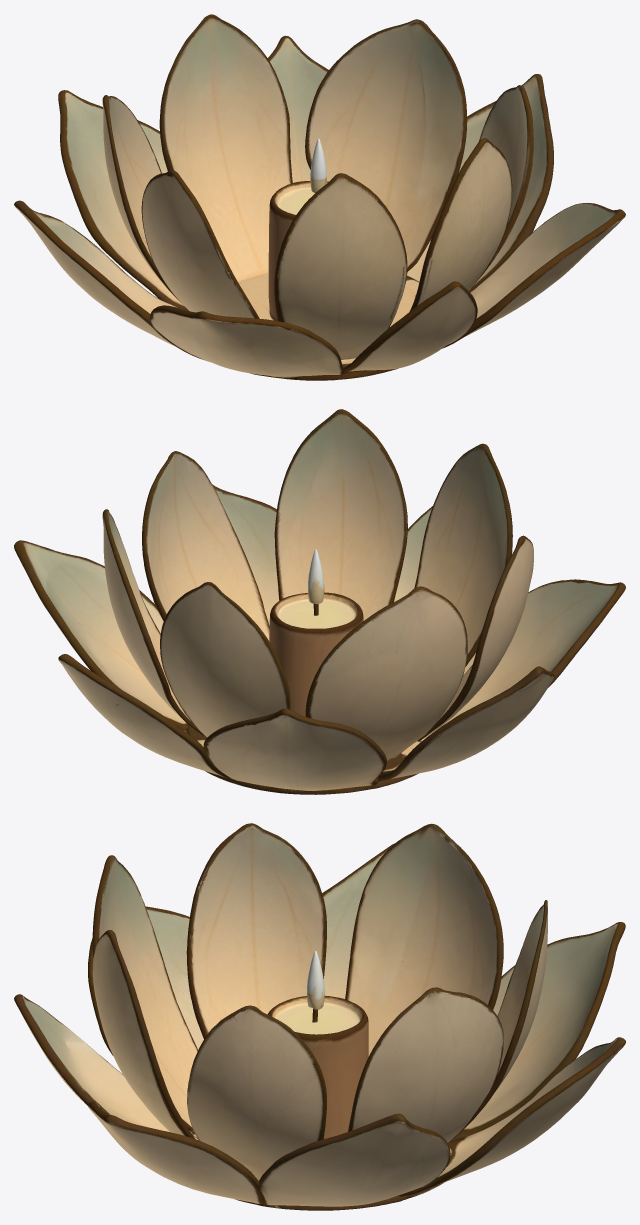
File: lotus-one.glb
3 renders of one model, top to bottom at view 1: azimuth 30°, elevation 25°; view 2: azimuth 150°, elevation 25°; view 3: azimuth 270°, elevation 25°, orthographic. The views are drawn at different scales.
Visible parts, largest first — view 1: Mesh_0; view 2: Mesh_0; view 3: Mesh_0.
Boxes of the visible parts, box(x1,y1,x2,y2) form: Mesh_0: box(14, 14, 625, 380); Mesh_0: box(14, 409, 625, 794); Mesh_0: box(14, 823, 625, 1210).
Bounding box in the file's own units: 1.9 × 0.8241 × 1.78.
1 material, 1 textured.
